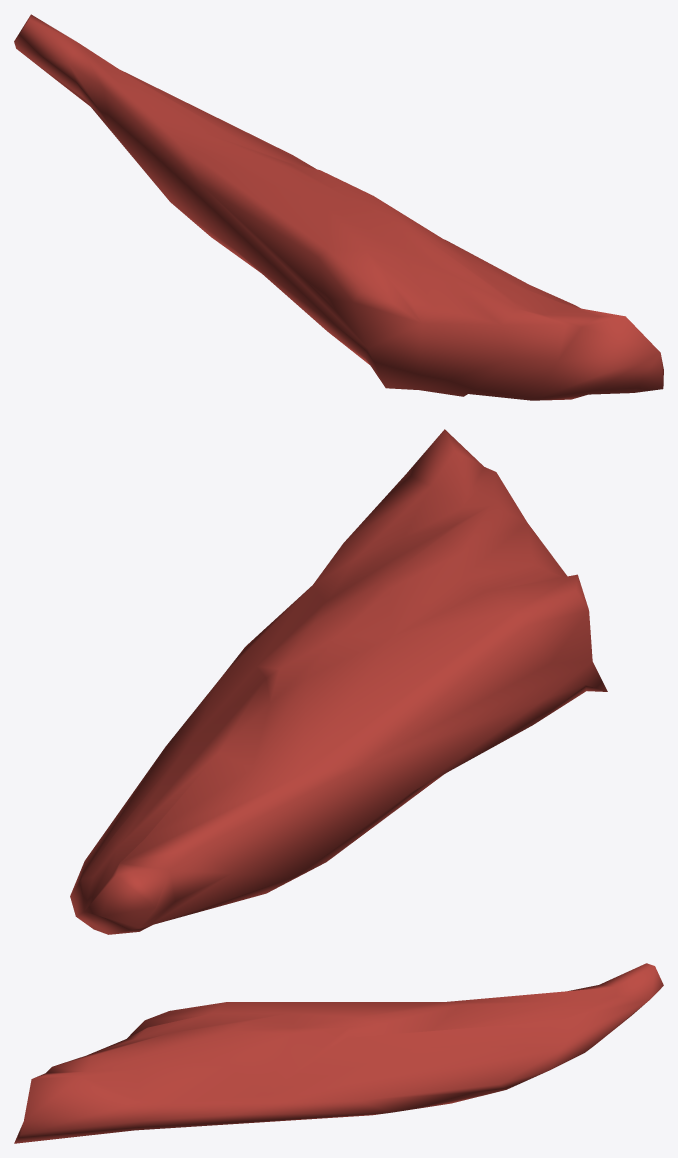
The model's file is musculos-anterior-belly-of-digastric-muscle-r.glb.
3 renders of one model, top to bottom at view 1: azimuth 30°, elevation 25°; view 2: azimuth 150°, elevation 25°; view 3: azimuth 270°, elevation 25°, orthographic. The views are drawn at different scales.
Parts seen in each view (by area): view 1: Anterior belly of digastric muscle.r; view 2: Anterior belly of digastric muscle.r; view 3: Anterior belly of digastric muscle.r.
Boxes of the visible parts, box(x1,y1,x2,y2) form: Anterior belly of digastric muscle.r: box(14, 14, 663, 400); Anterior belly of digastric muscle.r: box(70, 429, 607, 934); Anterior belly of digastric muscle.r: box(14, 963, 663, 1143).
Size of the model in its own units: 0.012 by 0.00633 by 0.0358.
